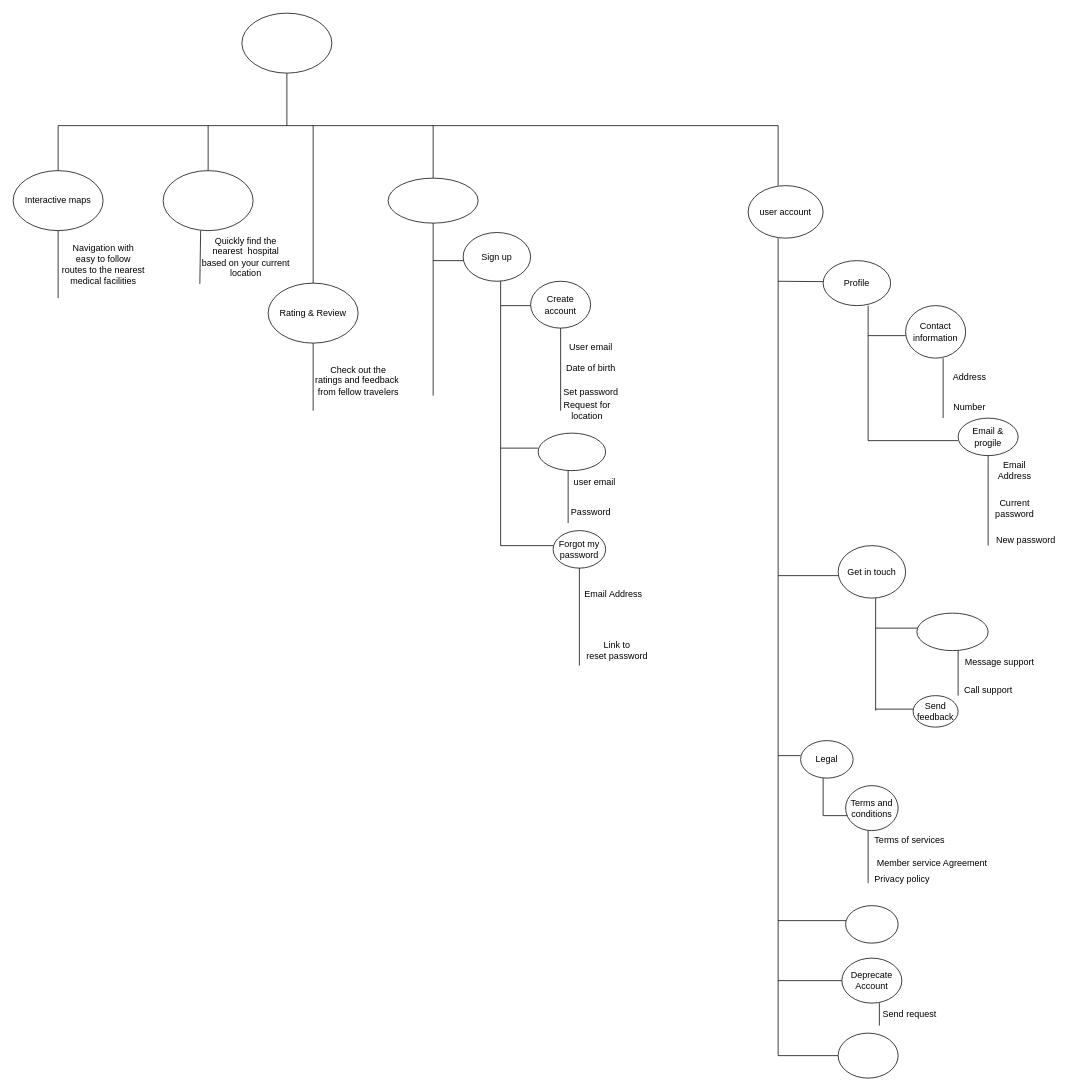
Image size: 1080x1091. Some labels were removed from this diagram. The centre of each missing label's shape, as x and y in pixels:
Customer support: point (952, 631)
Docease: point (286, 42)
Friendly -user interface: point (432, 200)
Instant hospital Locator: point (207, 200)
Payment: point (871, 924)
sign in: point (571, 451)
Sign out: point (867, 1055)
